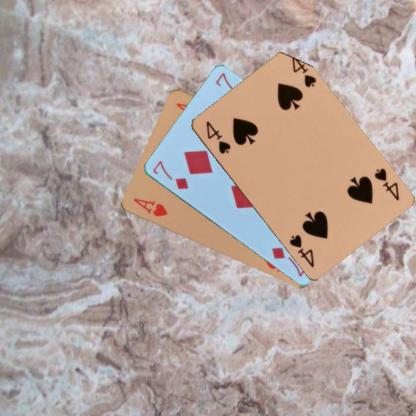4s: (203, 118, 232, 155), (371, 165, 400, 202)
7d: (150, 158, 190, 191)
Ah: (130, 196, 168, 218)
